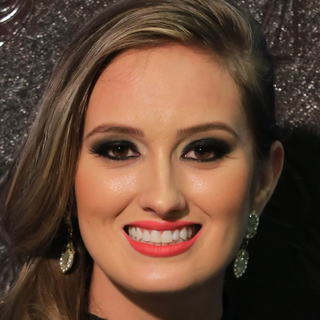eye: (180, 138, 231, 165), (91, 138, 141, 165)
